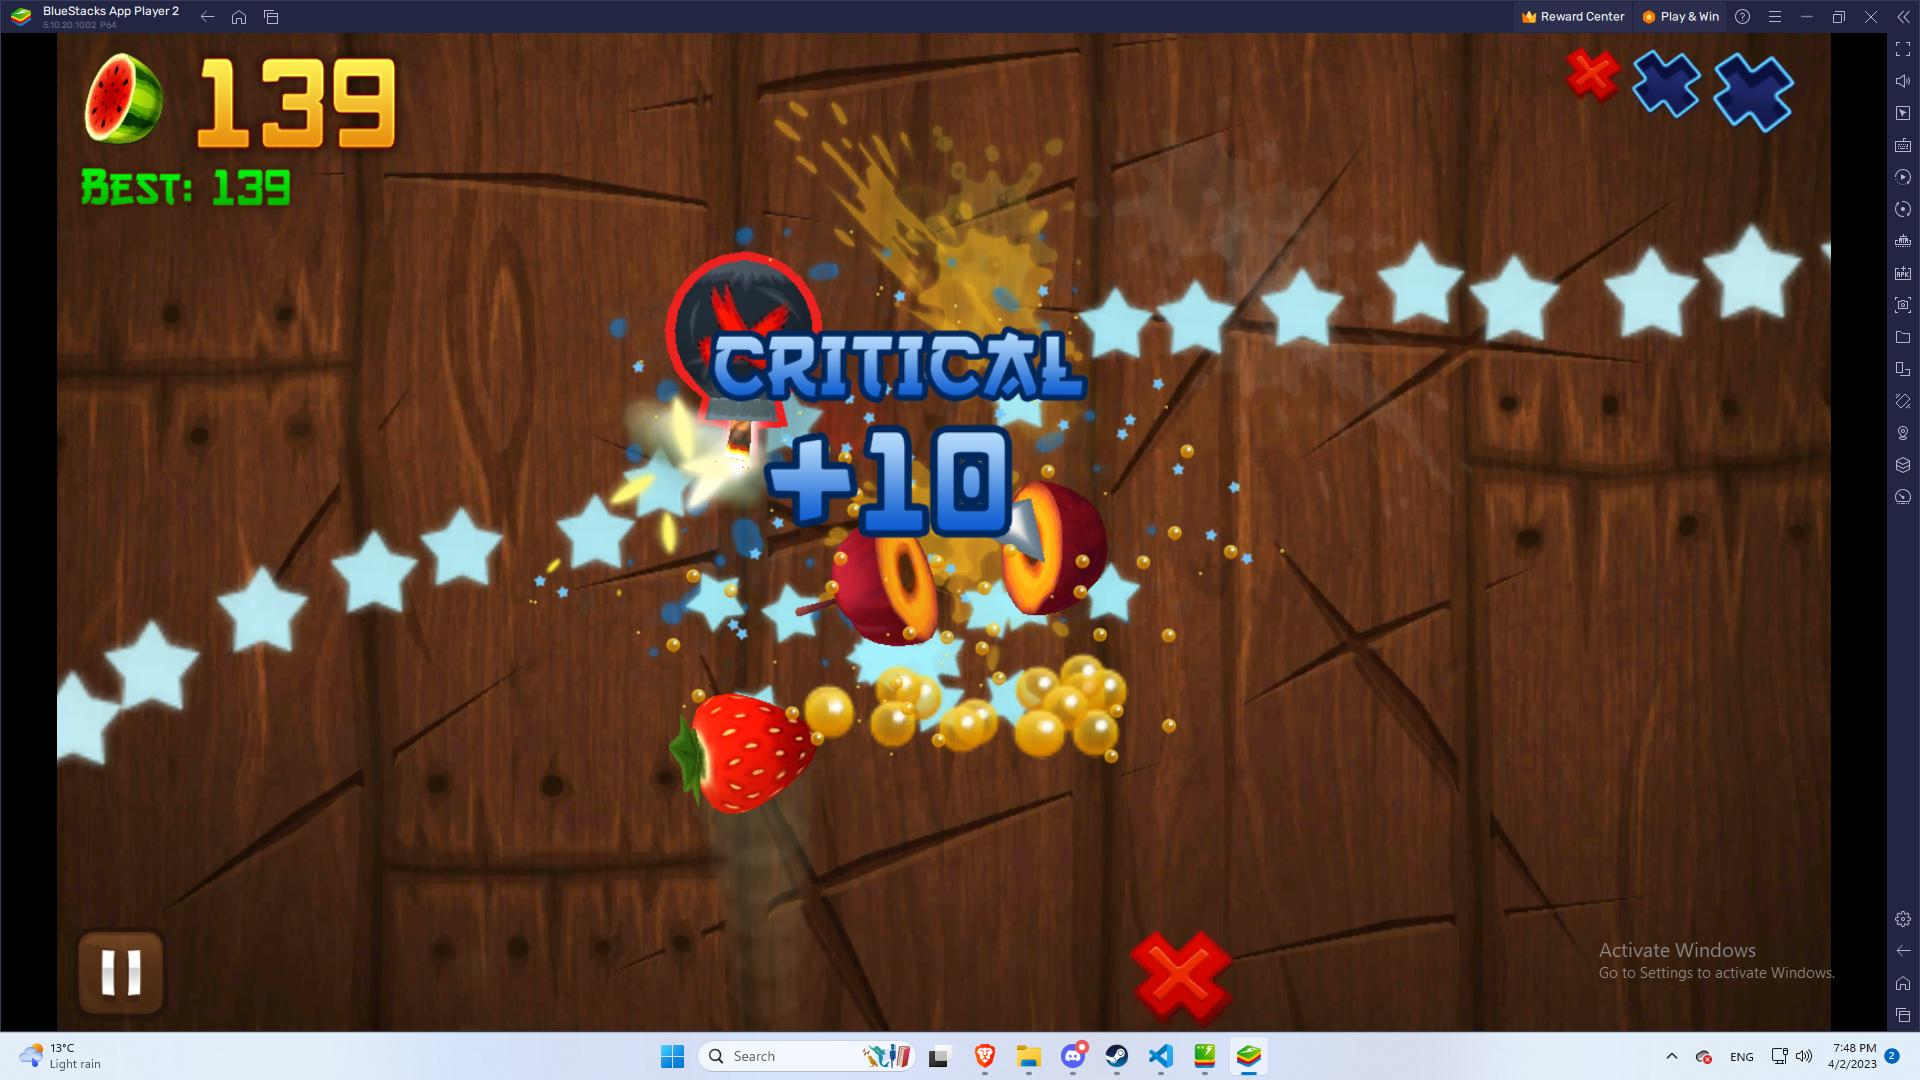fruit: (670, 684, 833, 824)
